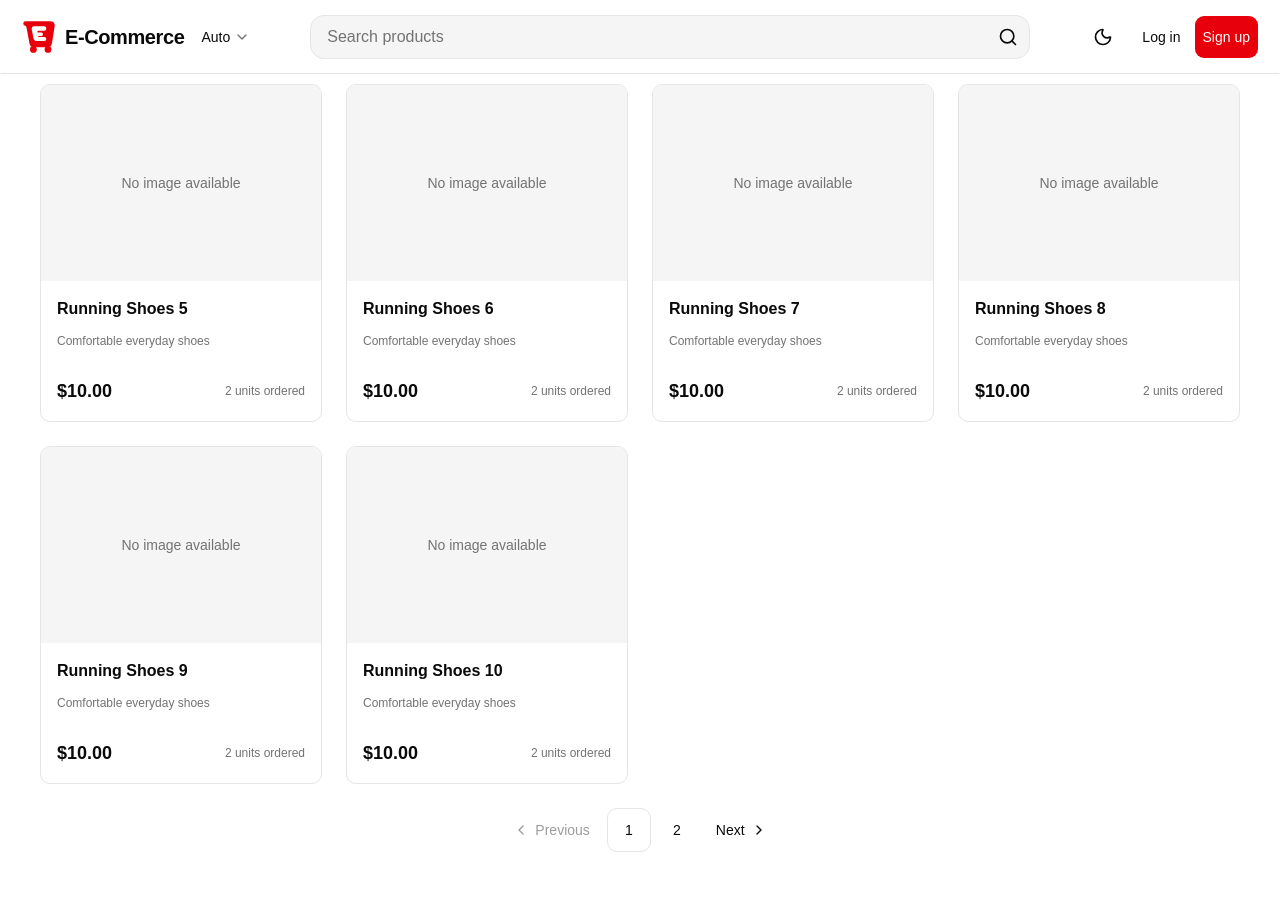
Test: Store Page › pagination retains query, sorting resets page immediately, category cards filter products
The width and height of the screenshot is (1280, 900).
(page scrolled)
Click the link with aria-label "Go to next page" at (741, 830), box [716,822,767,838]
(page scrolled)
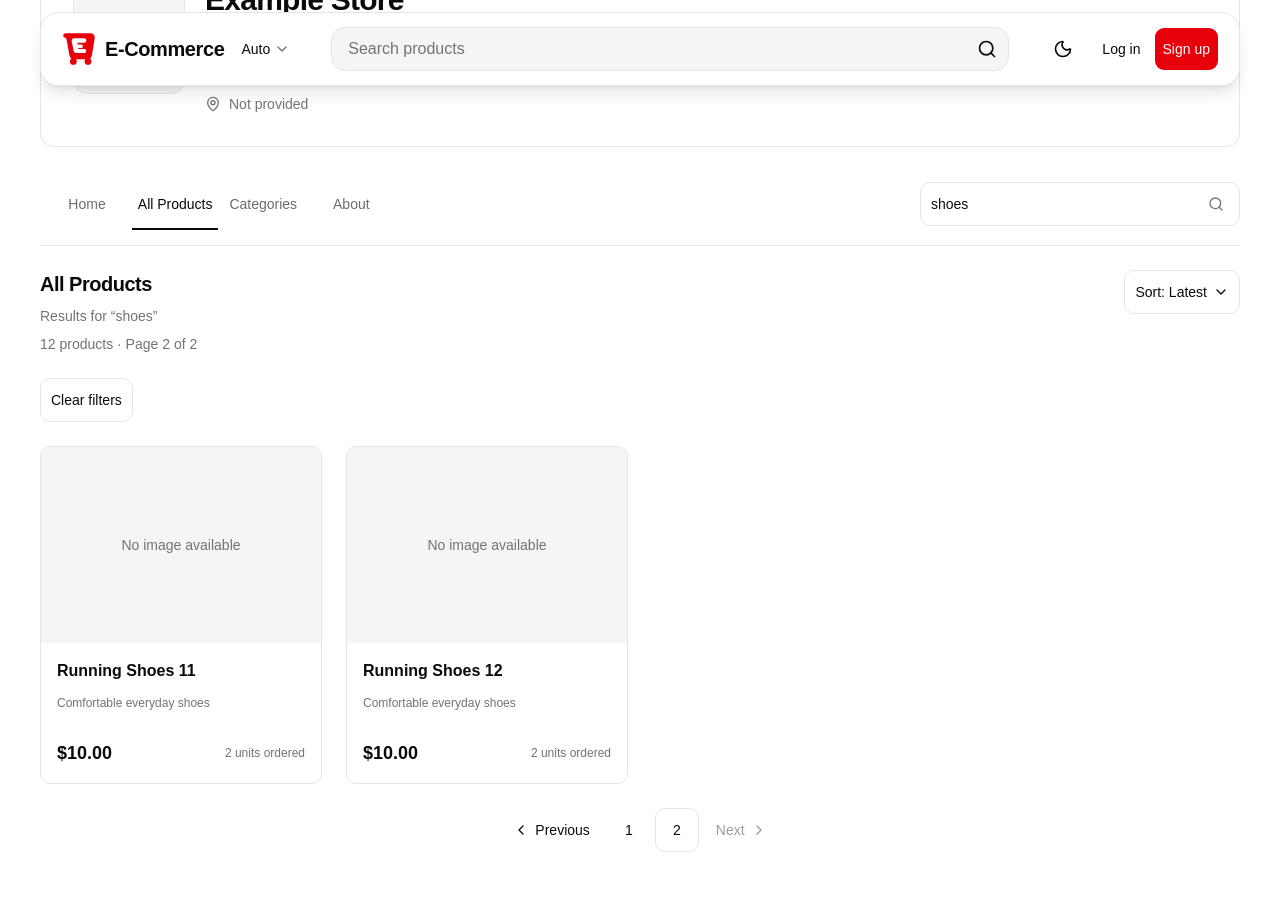
Result: the element "Running Shoes 11" is shown at [40,446,322,784]
Click the button with aria-label "Sort products: Latest" at (1182, 292), box [1124,270,1240,314]
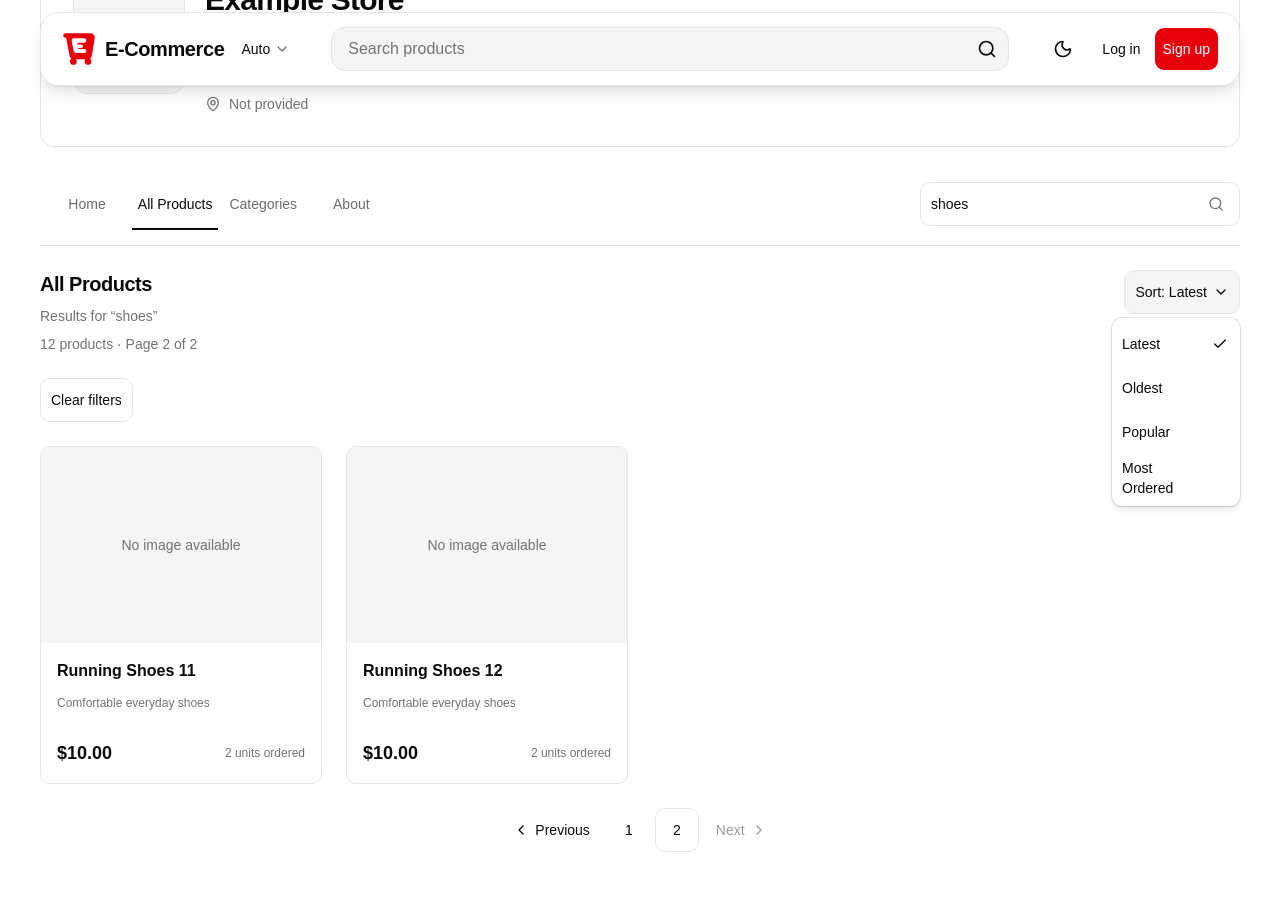
Click the menu item "Popular" at (1146, 432), box [1122,424,1170,440]
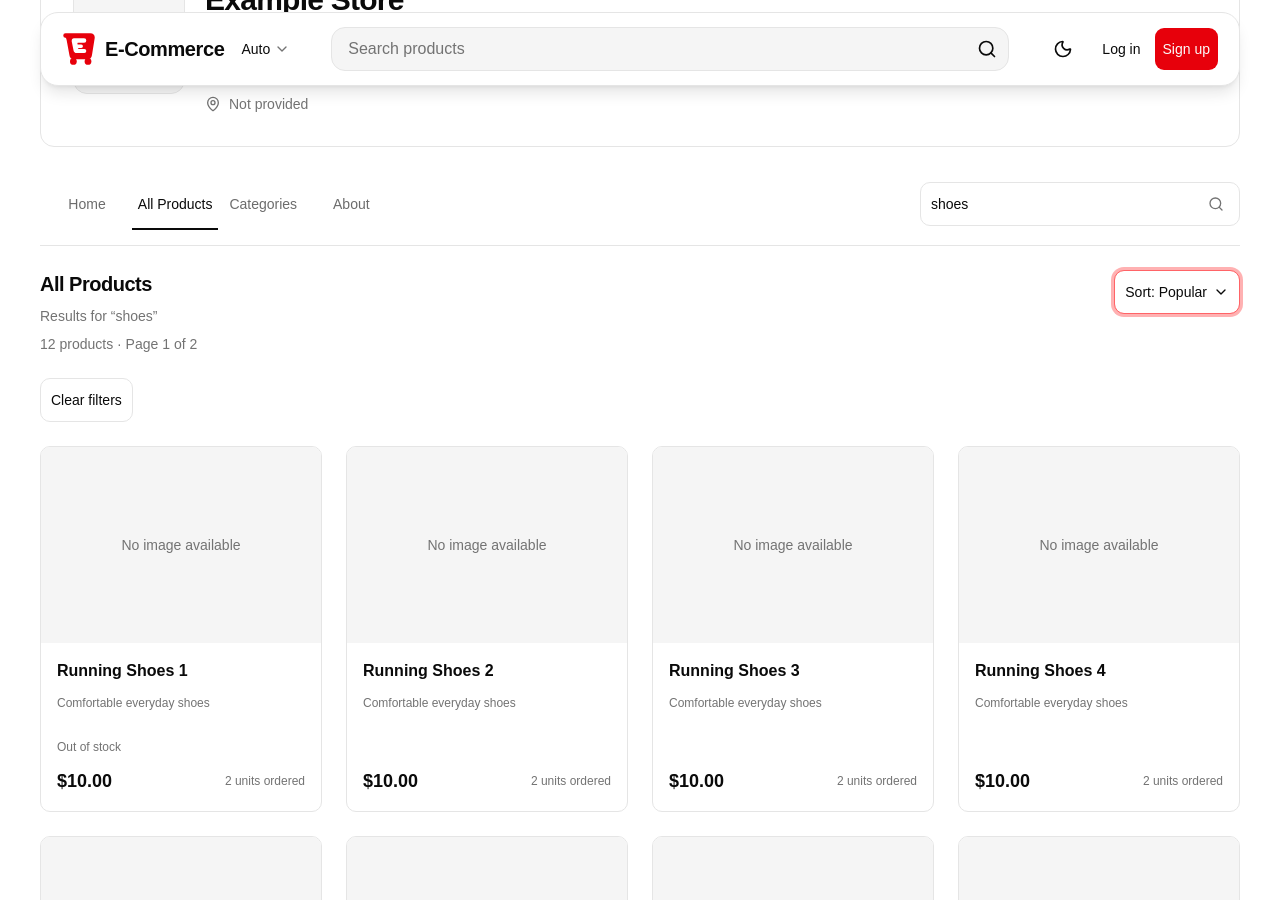
Result: the element "Running Shoes 1" is shown at [40,446,322,812]
Result: the menu is gone
Click the tab "Categories" at (263, 204), box [219,182,307,226]
(page scrolled)
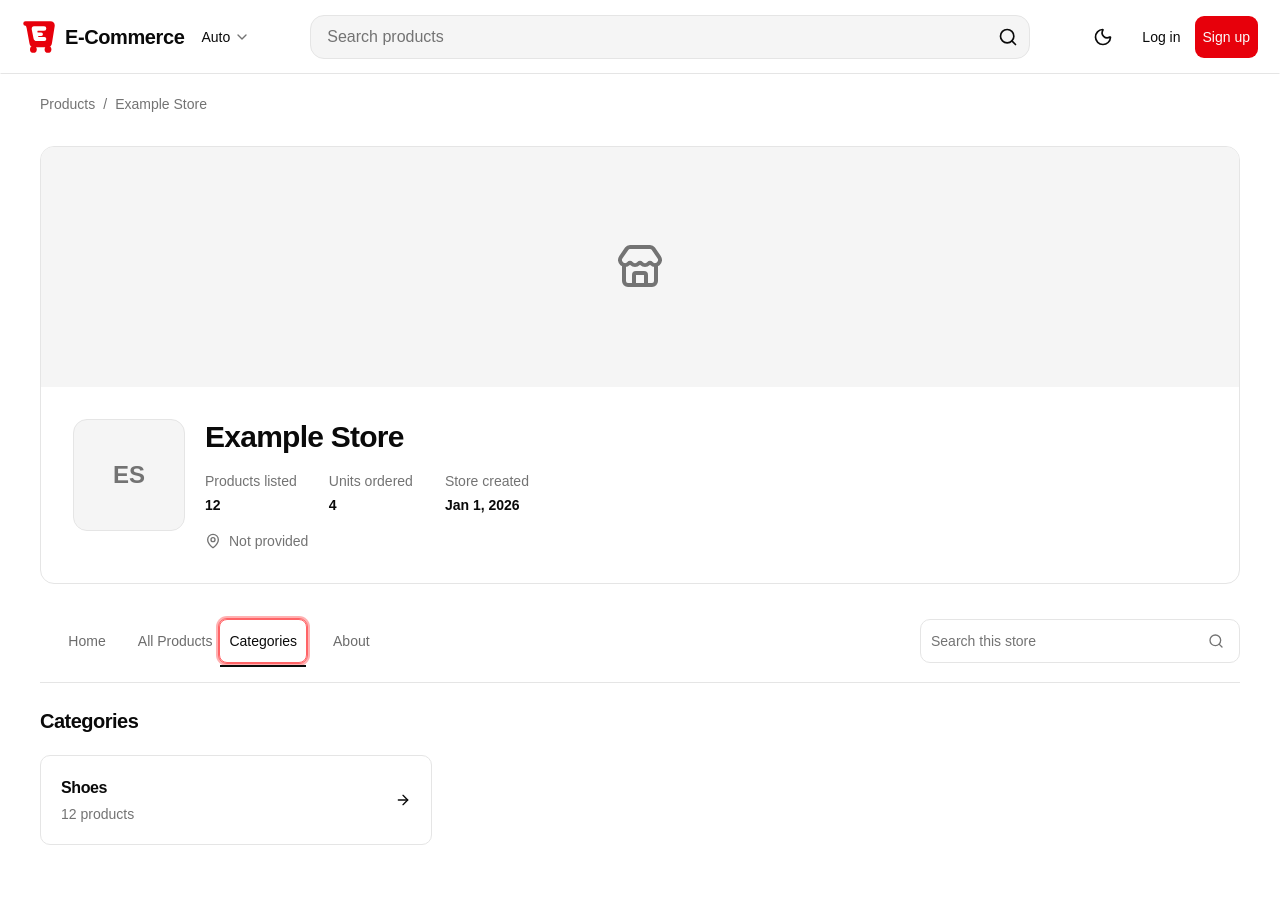
Click the link "Shoes 12 products" at (236, 800), box [40,755,432,845]
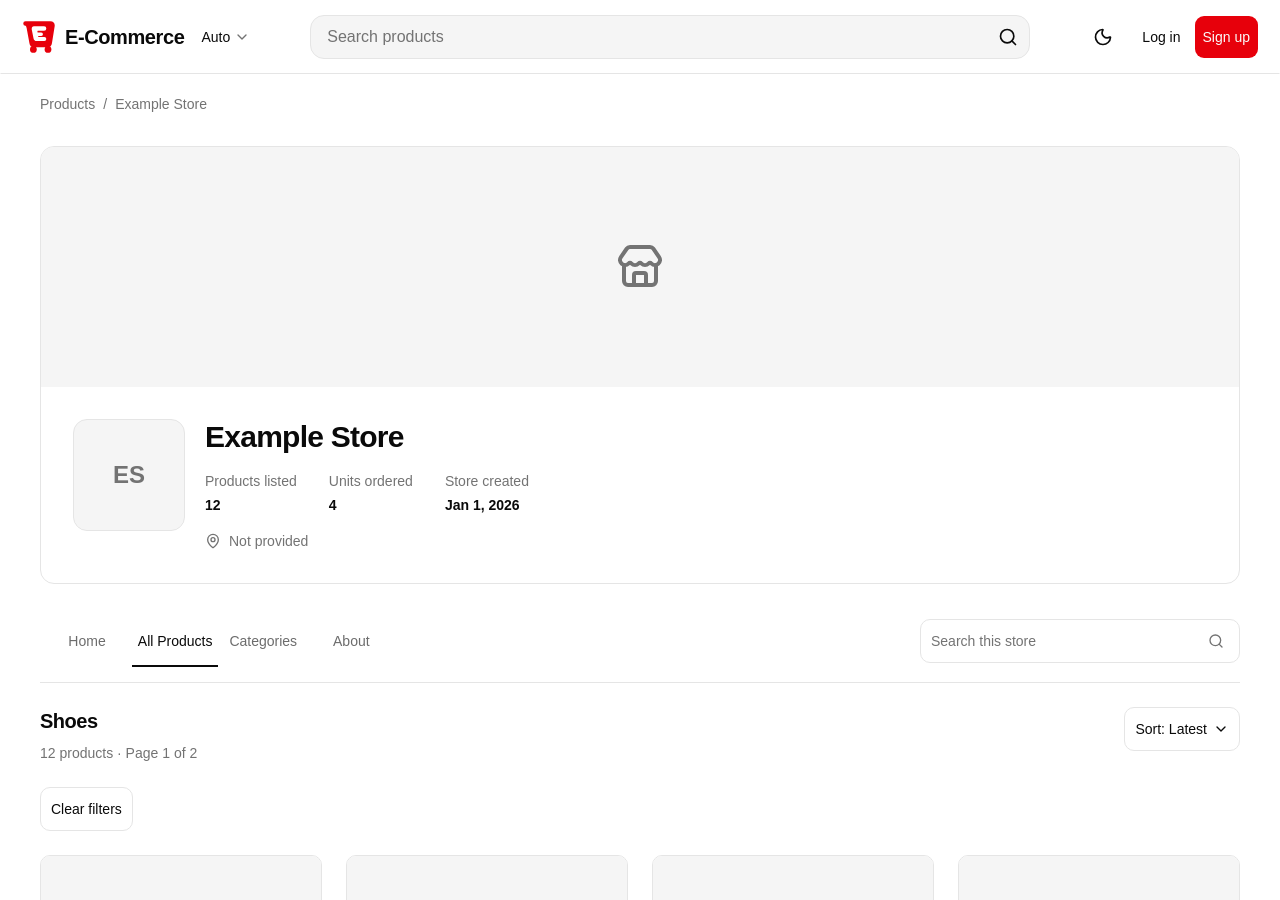
Result: the heading "Shoes" is shown at [40,710,98,732]
